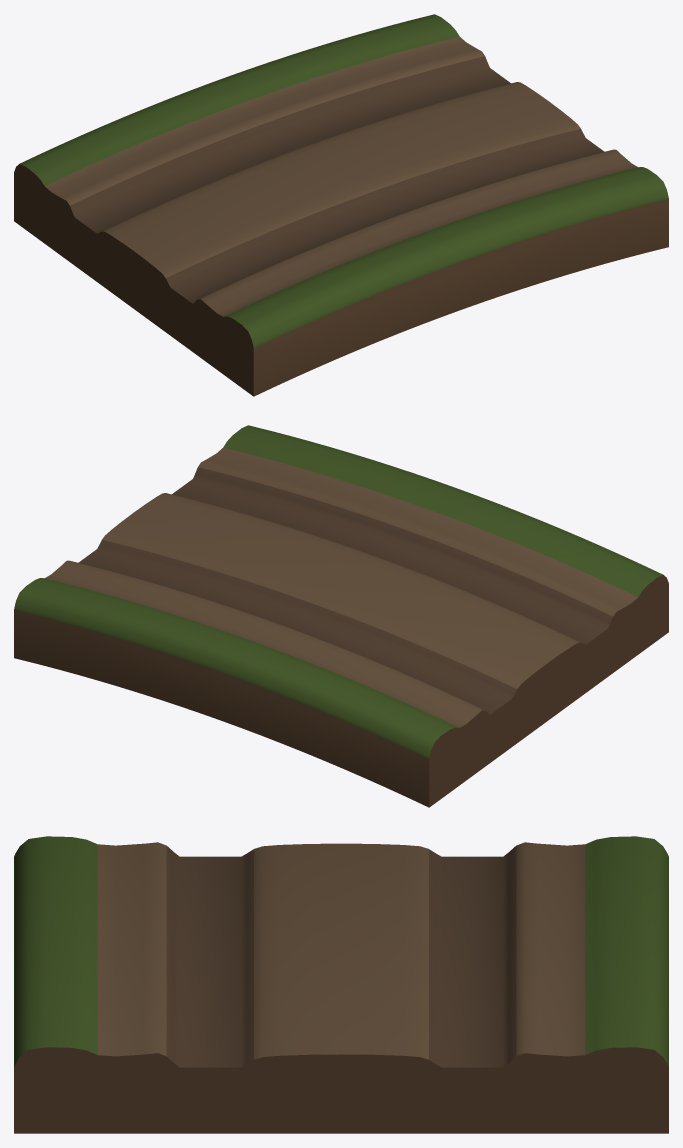
3 renders of one model, top to bottom at view 1: azimuth 30°, elevation 25°; view 2: azimuth 150°, elevation 25°; view 3: azimuth 270°, elevation 25°, orthographic. The views are drawn at different scales.
Parts seen in each view (by area): view 1: e1o; view 2: e1o; view 3: e1o.
Boxes of the visible parts, x1,y1,x2,y2 form: e1o: (14, 14, 668, 396); e1o: (14, 425, 668, 807); e1o: (14, 836, 668, 1133).
Size of the model in its own units: 9 by 2.31 by 9.
